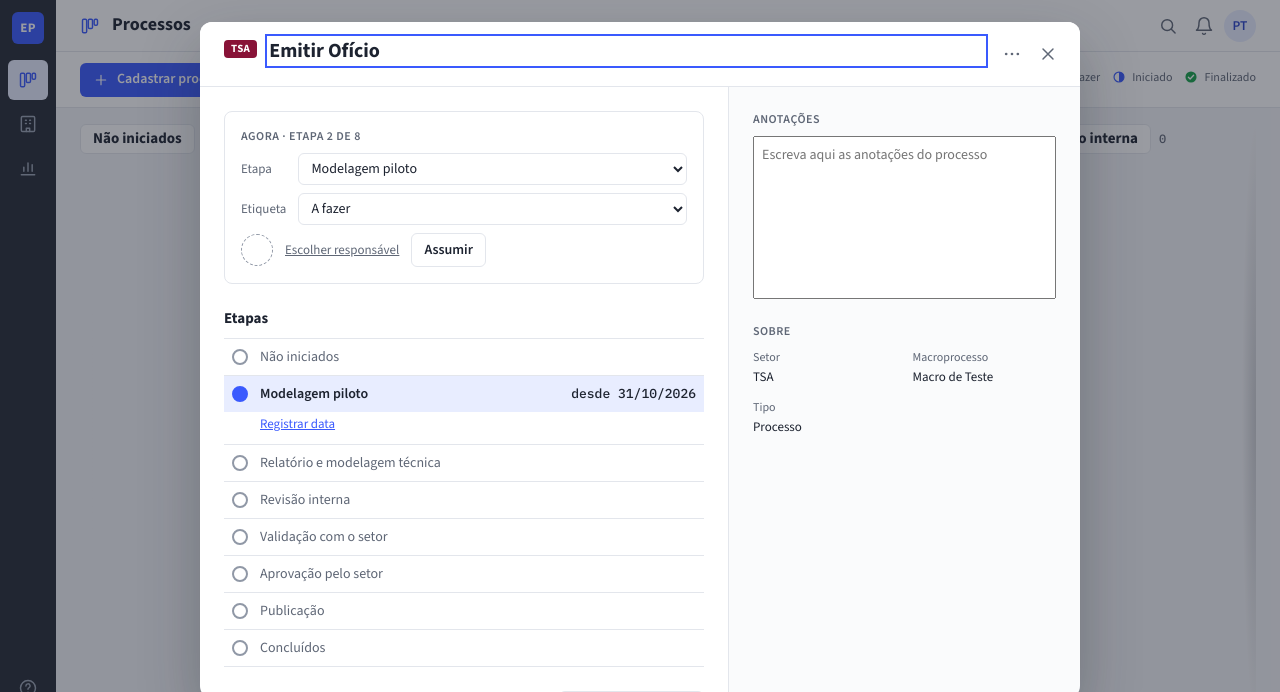
Test: abrir o Histórico com a gravação falhando pergunta; [Sair sem salvar] abre o Histórico
Type "Pendente" into the text box labelled "Anotações".
click(904, 218); type("Pendente")  # box [753,136,1056,299]
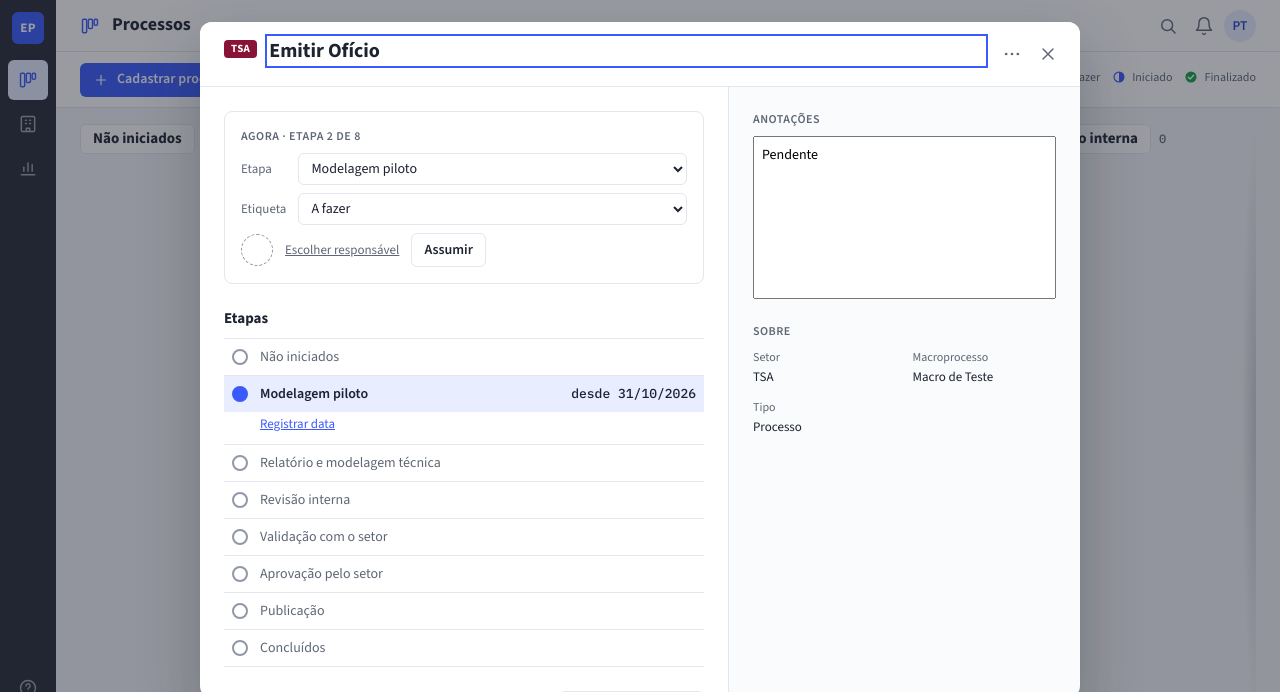
Click the button named "Ações do processo".
click(1012, 54)  # box [996,38,1028,70]
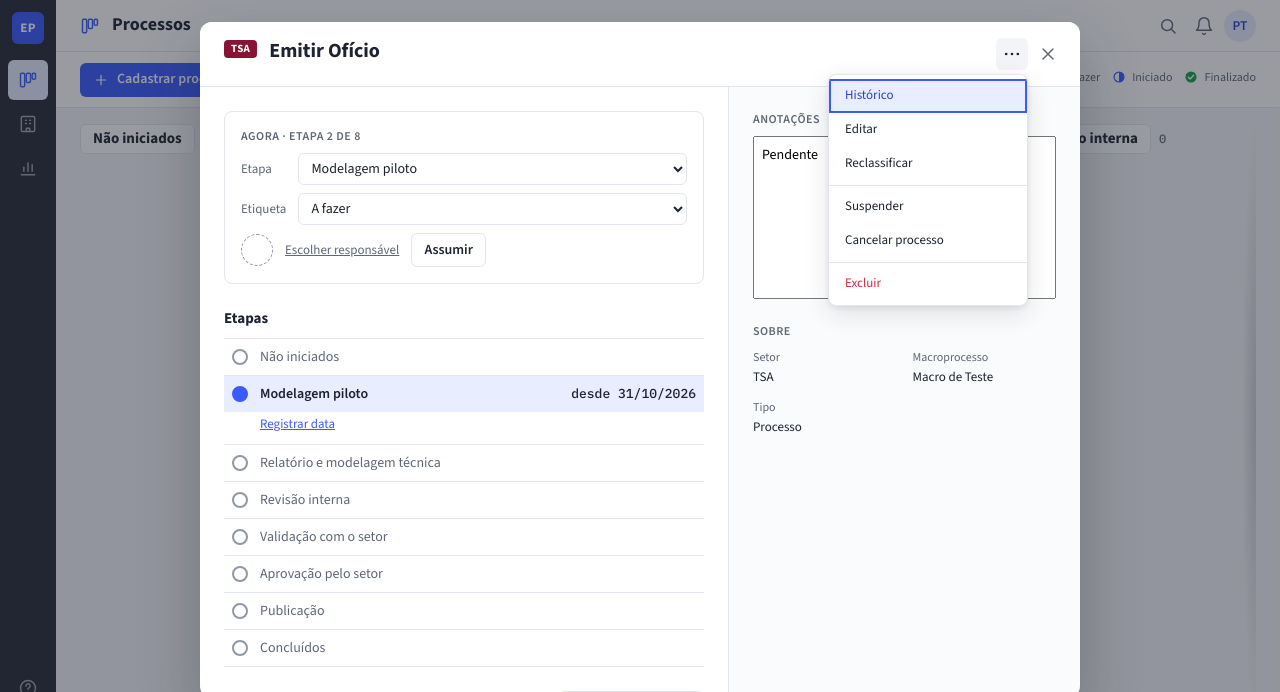
Click the menu item "Histórico".
click(928, 96)  # box [829,79,1027,113]
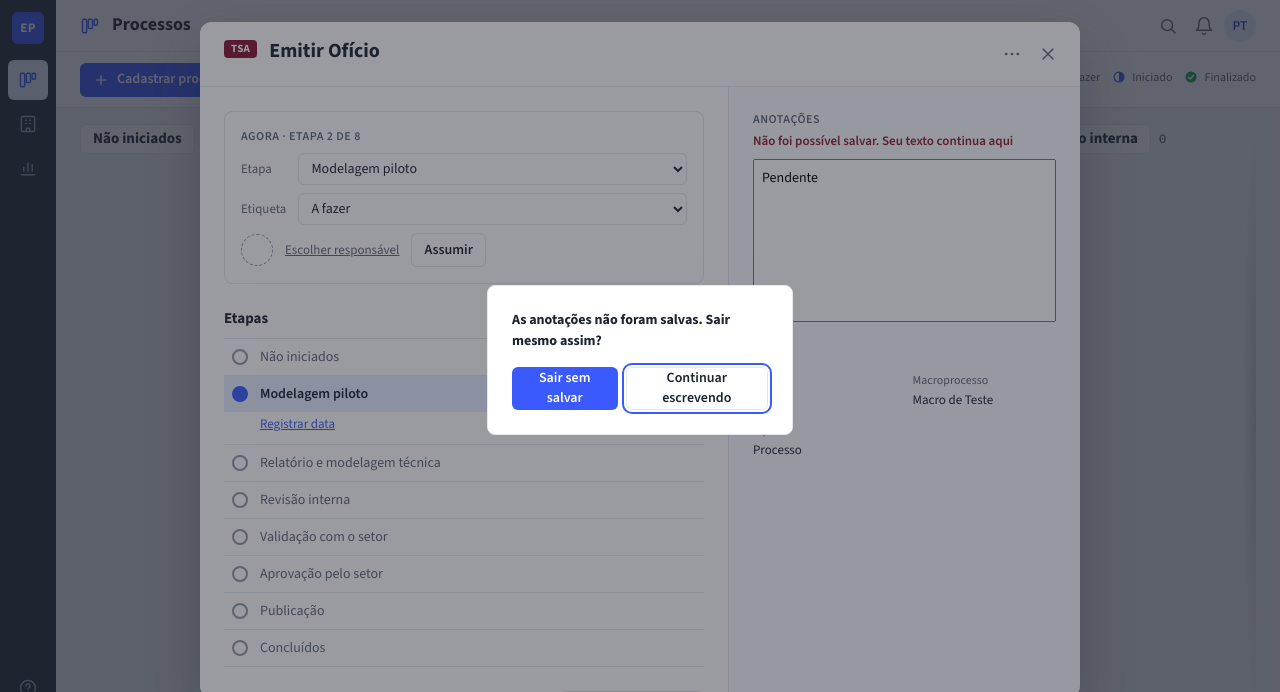
Click the button "Sair sem salvar".
click(565, 388)  # box [512,367,618,410]
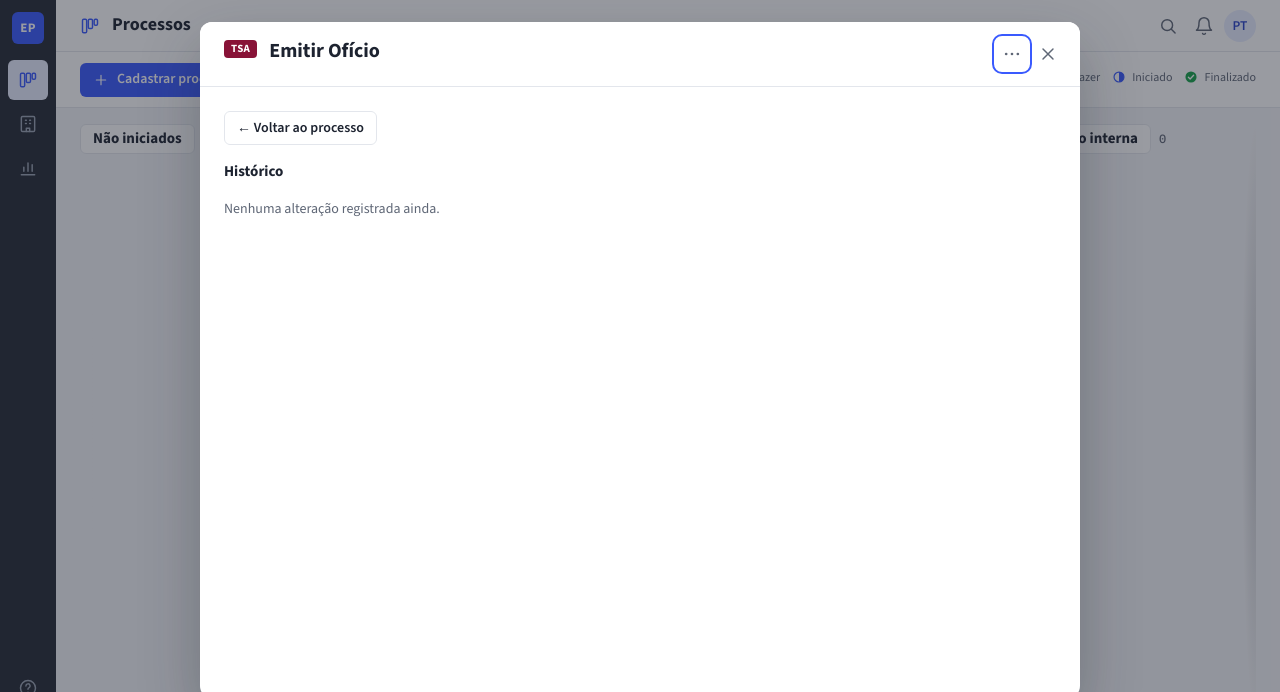
Now the heading "Histórico" is shown, box [224,161,283,182]
